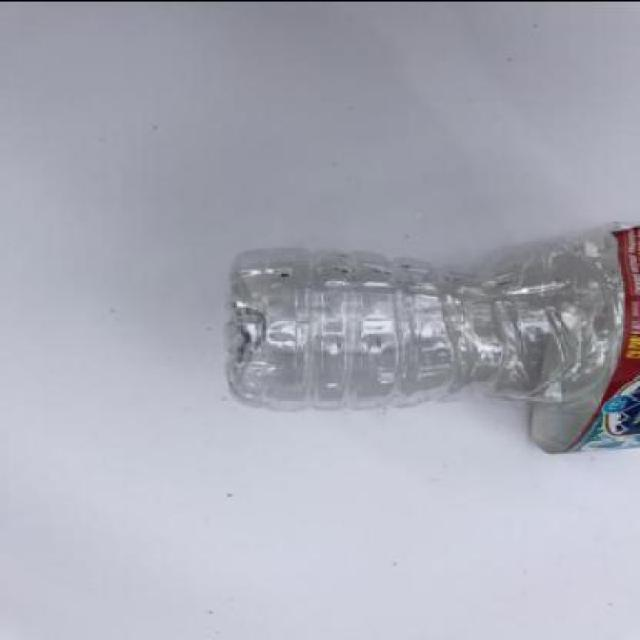PLASTIC: (227, 220, 639, 415), (530, 223, 638, 455)
